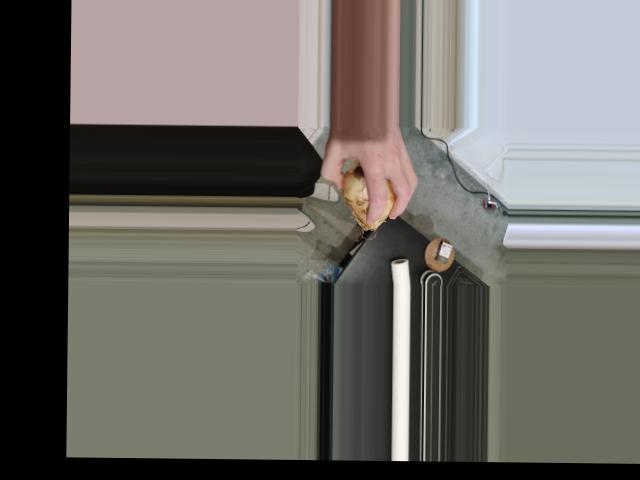onion: (340, 167, 393, 228)
